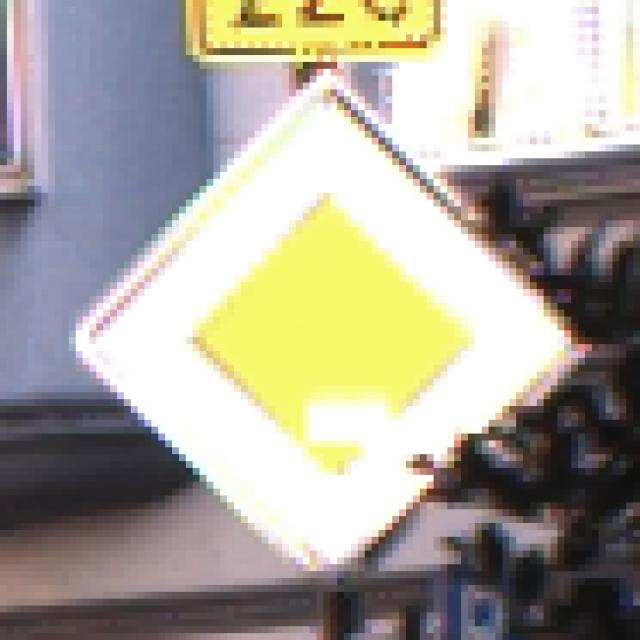Main Road: (63, 63, 586, 586)
